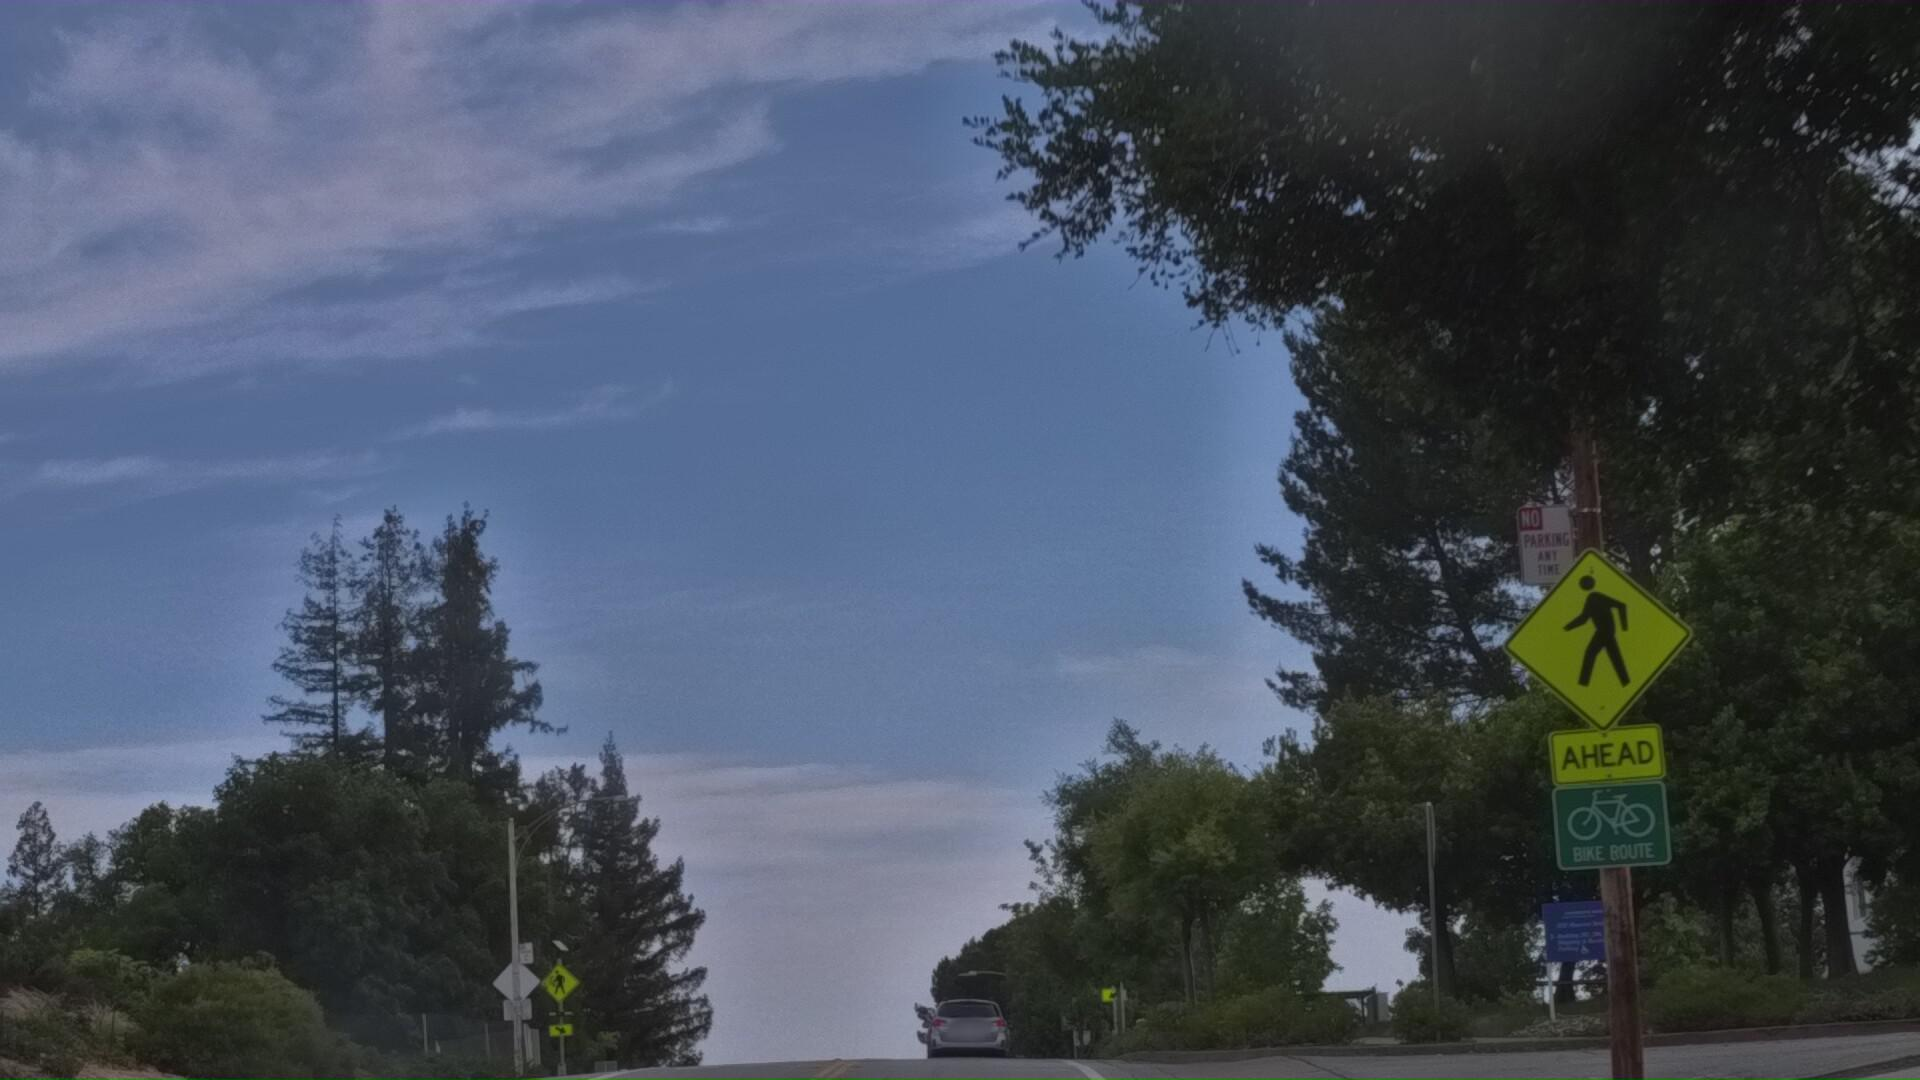car: (919, 988, 1019, 1080)
